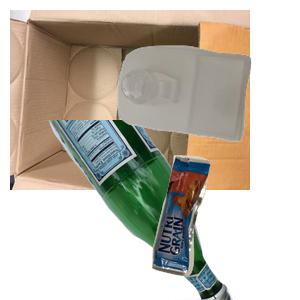cardboard: (10, 10, 250, 190)
glass: (37, 120, 262, 300)
plastic: (115, 43, 300, 177)
trash: (149, 152, 300, 300)
